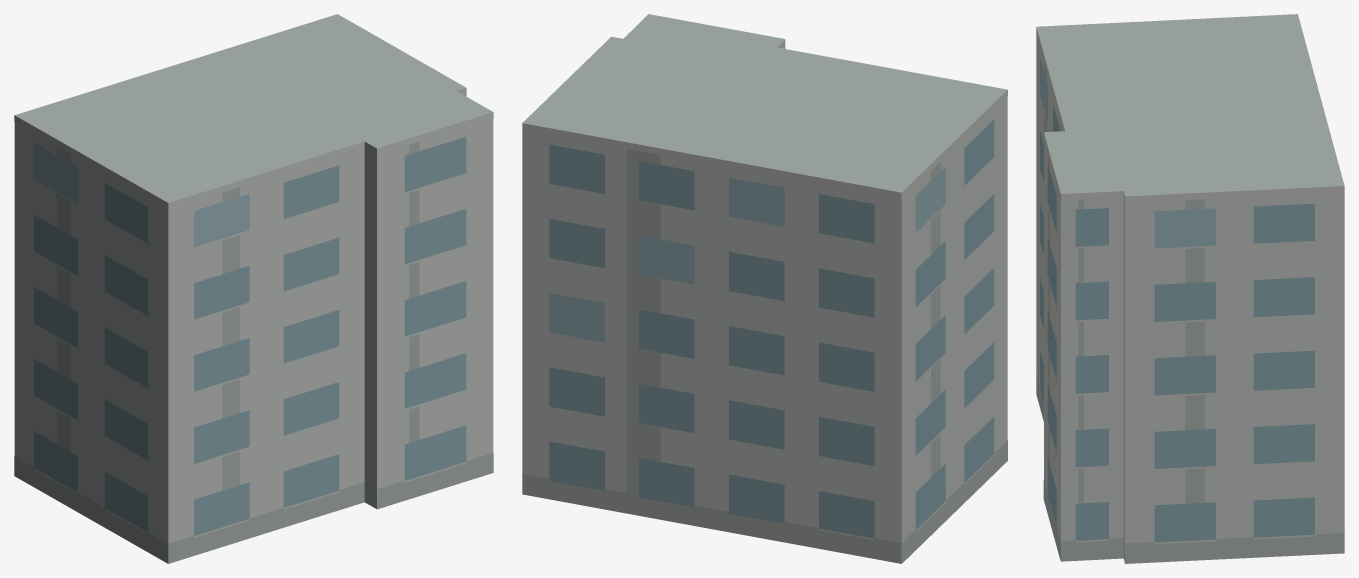
The model's file is survey-upis-32820983.glb.
The picture shows the model from 3 angles, left to right: view 1: azimuth 30°, elevation 25°; view 2: azimuth 150°, elevation 25°; view 3: azimuth 270°, elevation 25°; orthographic projection. The views are drawn at different scales.
Parts seen in each view (by area): view 1: survey-upis-32820983.tmp; view 2: survey-upis-32820983.tmp; view 3: survey-upis-32820983.tmp.
Part boxes in pixels (<box>): survey-upis-32820983.tmp: <box>14,14,493,563</box>; survey-upis-32820983.tmp: <box>522,14,1007,563</box>; survey-upis-32820983.tmp: <box>1036,14,1344,563</box>.
Size of the model in its own units: 14.07 by 13.2 by 10.05.
